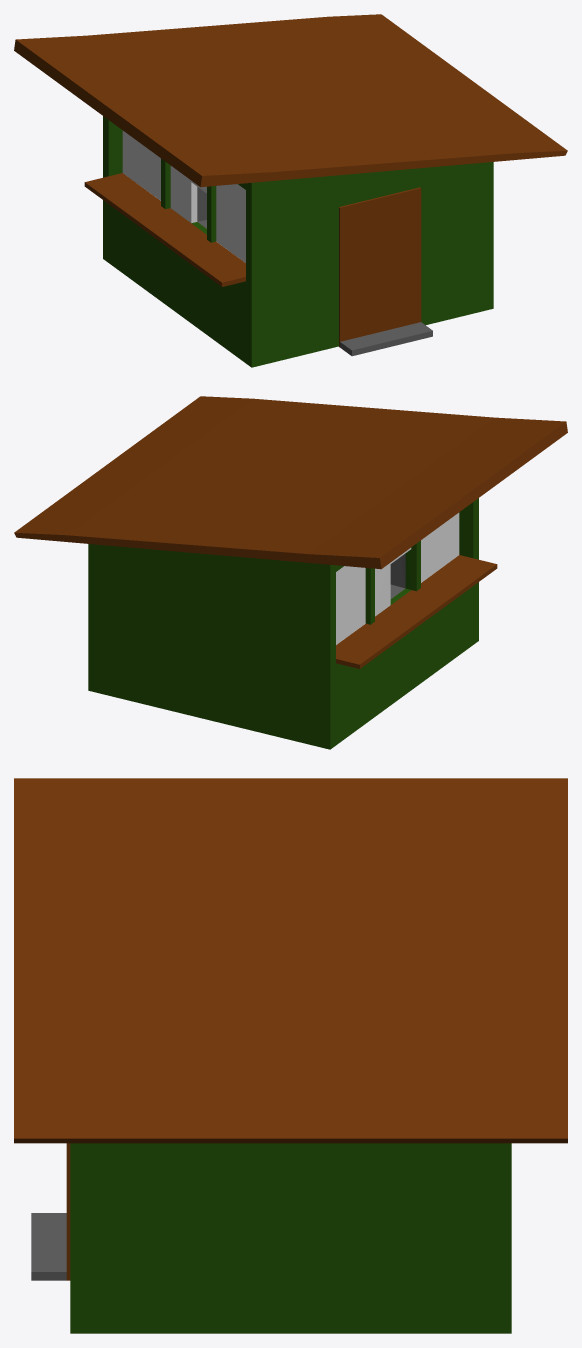
File: prop_kiosk.fbx
3 renders of one model, top to bottom at view 1: azimuth 30°, elevation 25°; view 2: azimuth 150°, elevation 25°; view 3: azimuth 270°, elevation 25°, orthographic. The views are drawn at different scales.
Parts seen in each view (by area): view 1: kiosk; view 2: kiosk; view 3: kiosk.
Part boxes in pixels (x1,y1,x2,y2): kiosk: [14, 14, 567, 367]; kiosk: [14, 396, 567, 749]; kiosk: [14, 778, 567, 1333].
Size of the model in its own units: 486 by 320 by 553.
